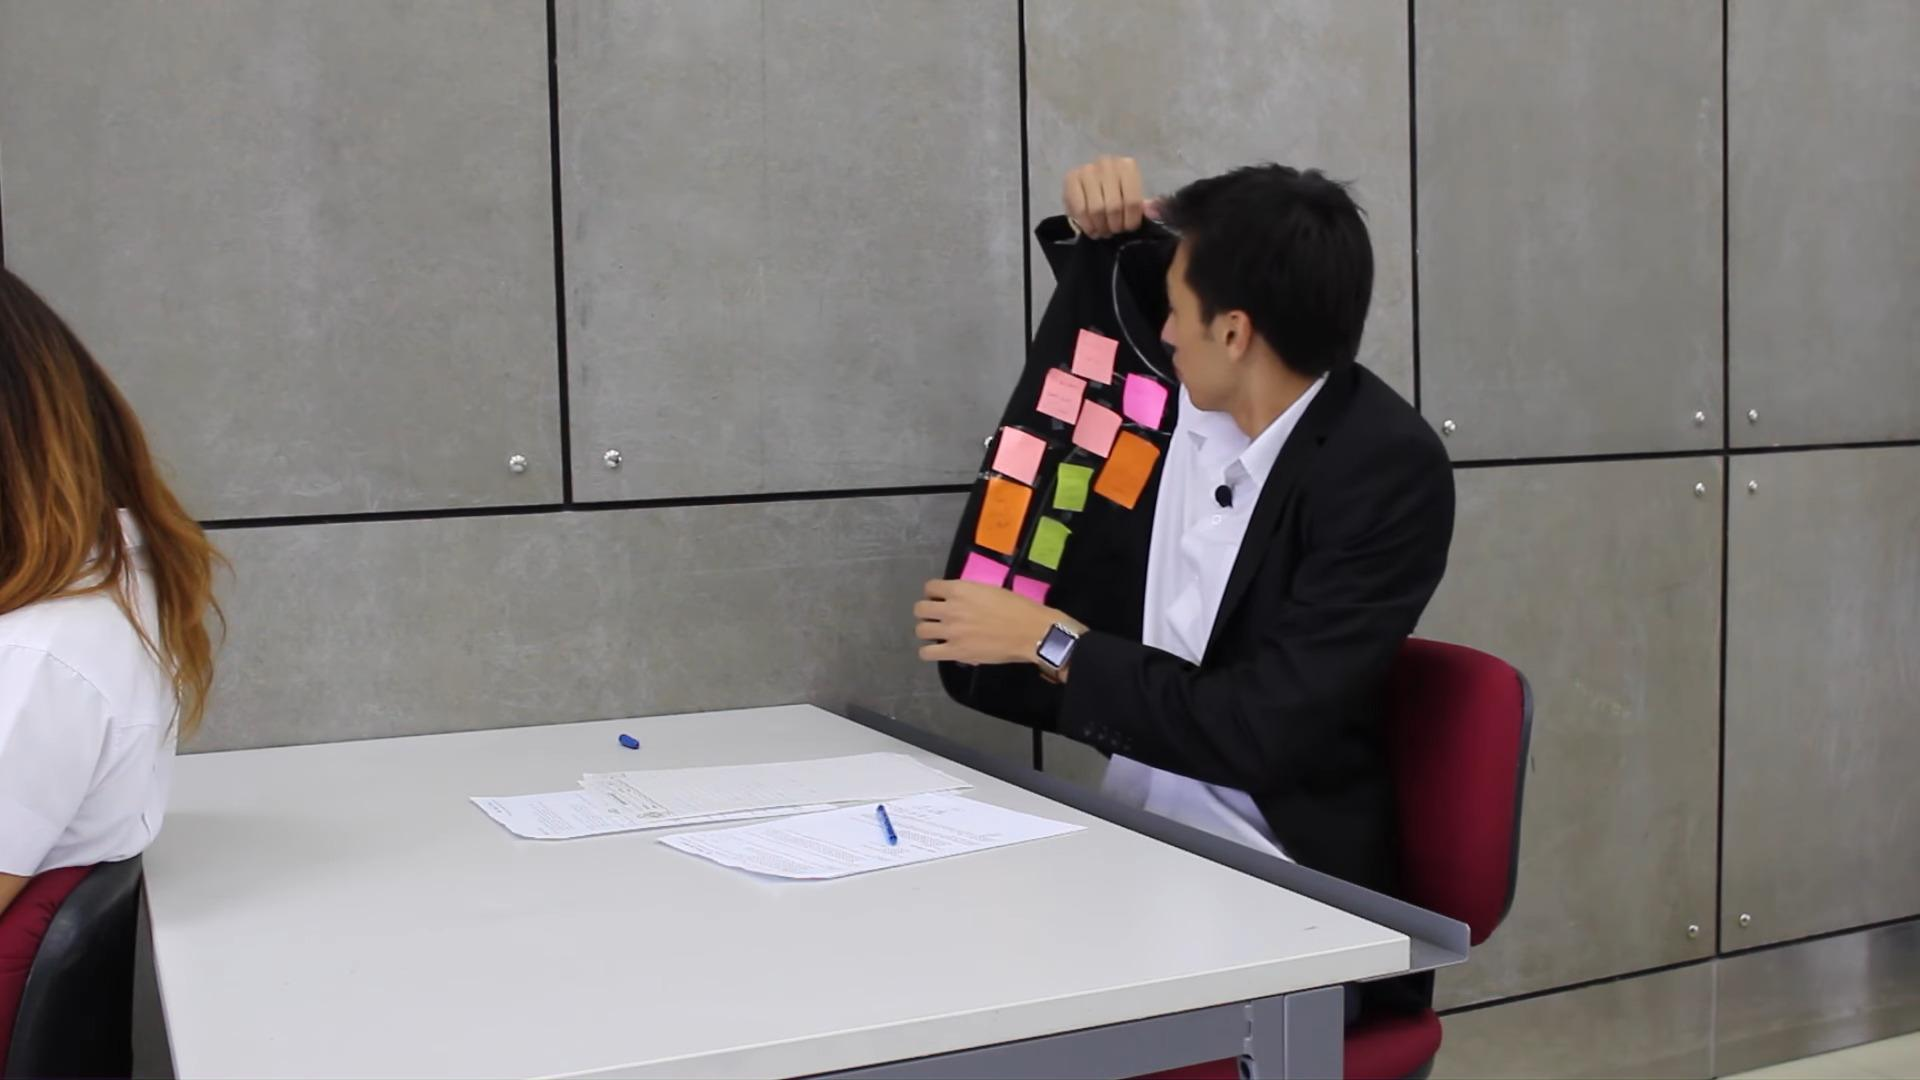cheating: (448, 133, 1481, 913)
